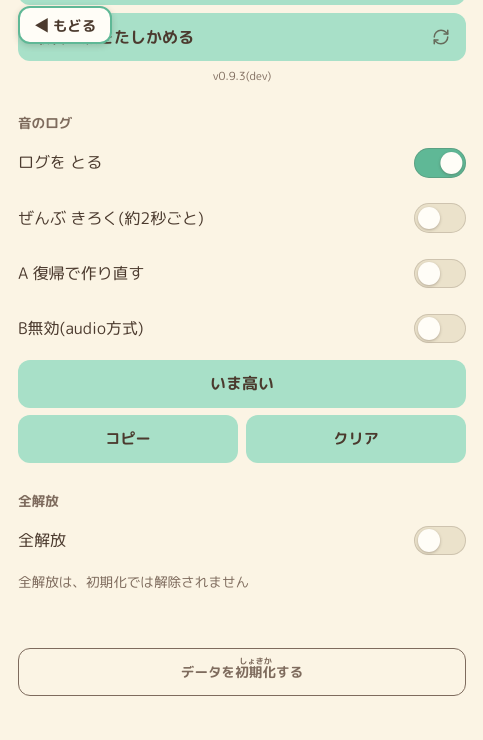
Test: 設定画面: 音のログ(調査用。ふだんは見えない) › コピーを押すと、記録のテキストがクリップボードに入り、件数が出る
The width and height of the screenshot is (483, 740).
(page scrolled)
Click the button "コピー" at (128, 439), box [18,415,238,463]
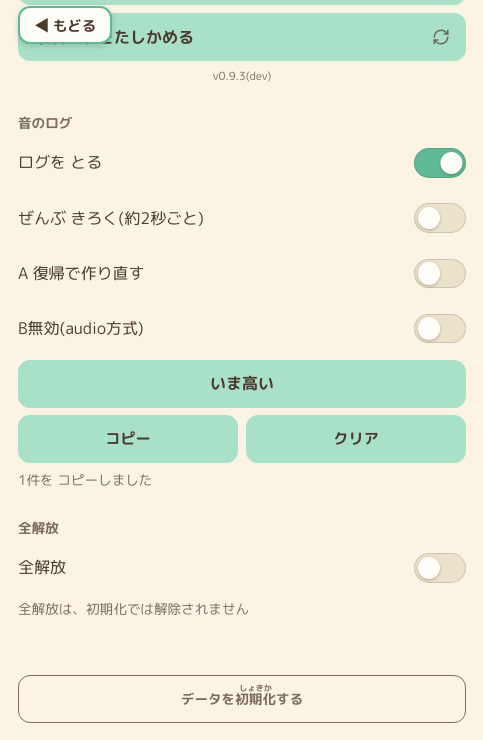
Expected: the element with class "audio-debug-panel" reads "音のログ ログを とる ぜんぶ きろく(約2秒ごと) A 復帰で作り直す B無効(audio方式) いま高い コピー クリア 1件を コピーしました", [18,470,152,489]
